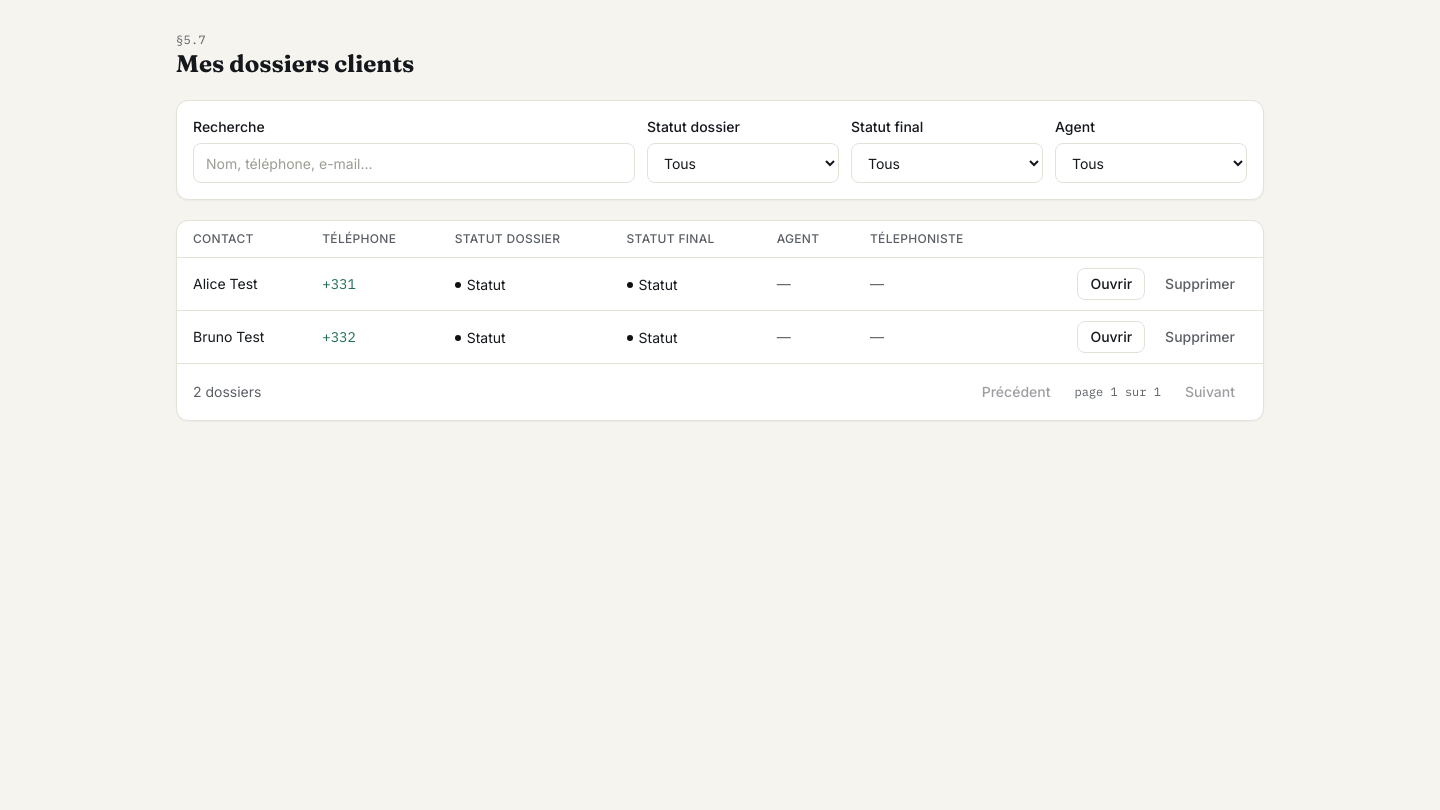
/clients — suppression d'un dossier › succès (204) : deleteClient(id), modale fermée, le dossier disparaît de la liste
What coordinates should you click on to do the following:
click the button "Supprimer" in the row of "Alice Test"
I would click on:
 (1200, 284)
Its box is [1153, 268, 1247, 300].
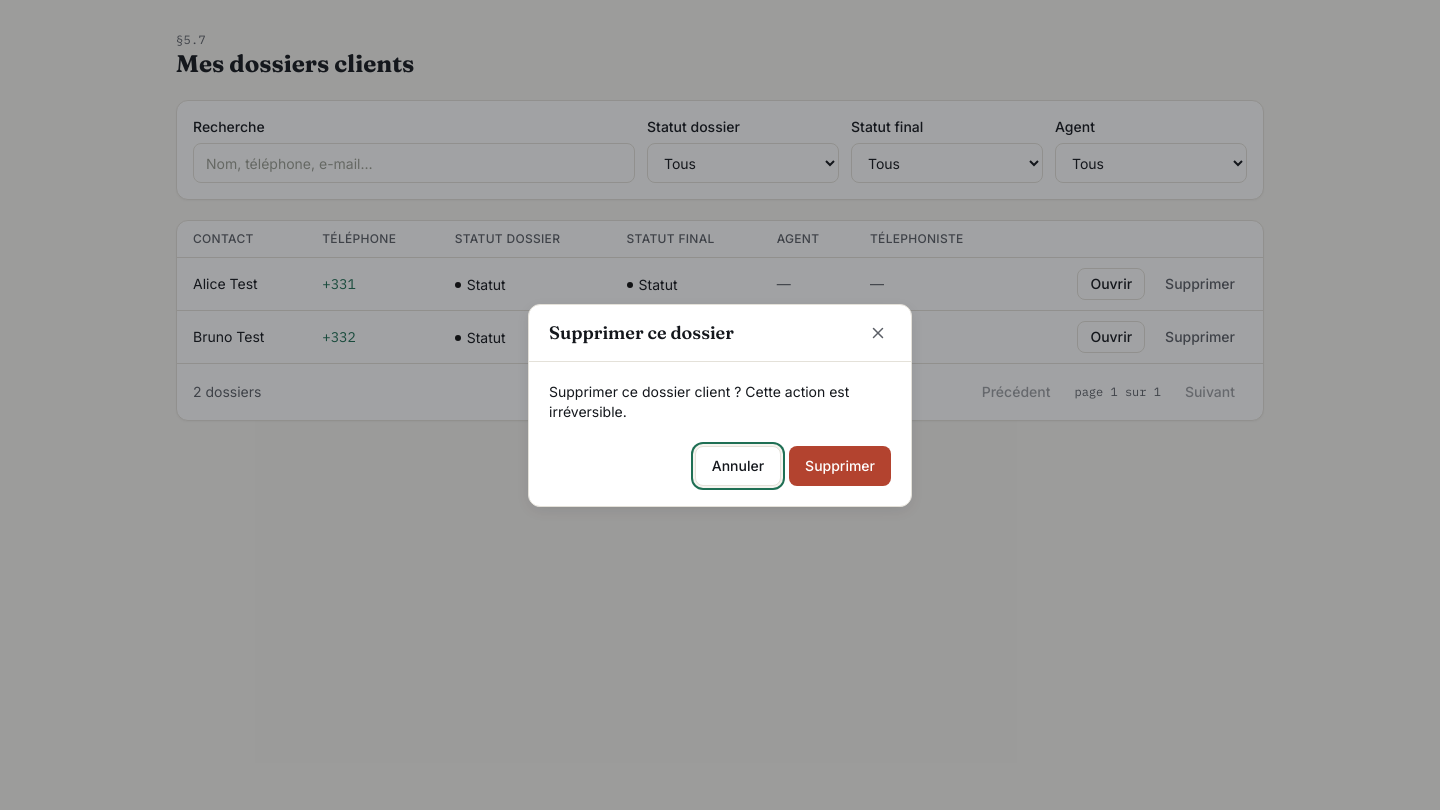
What coordinates should you click on to do the following:
click the button "Supprimer"
I would click on:
 (840, 466)
Its box is [789, 446, 891, 486].
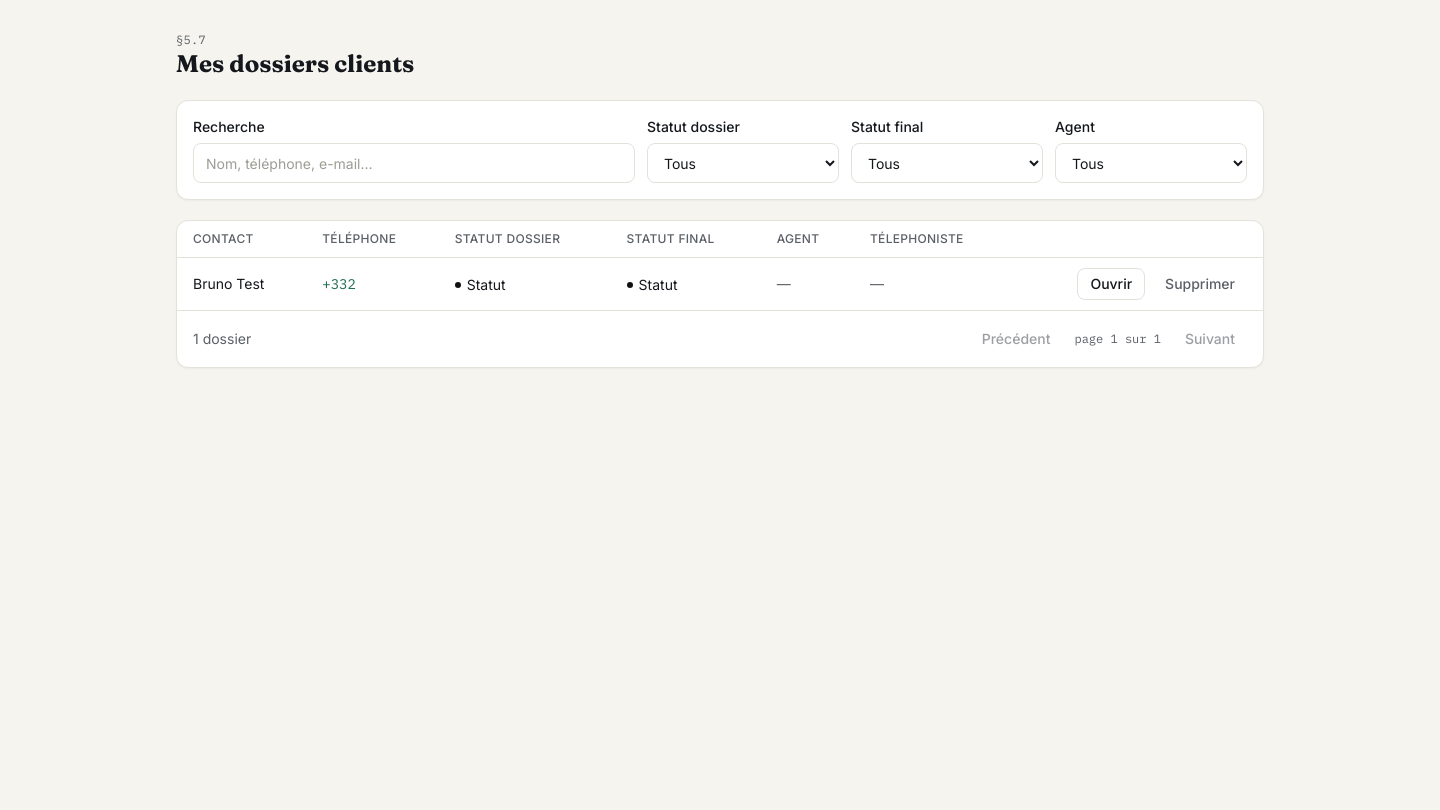
expect the text "Bruno Test" is shown: met, box [177, 258, 306, 310]
expect the text "Alice" is gone: met
expect the heading "Supprimer ce dossier" is gone: met
